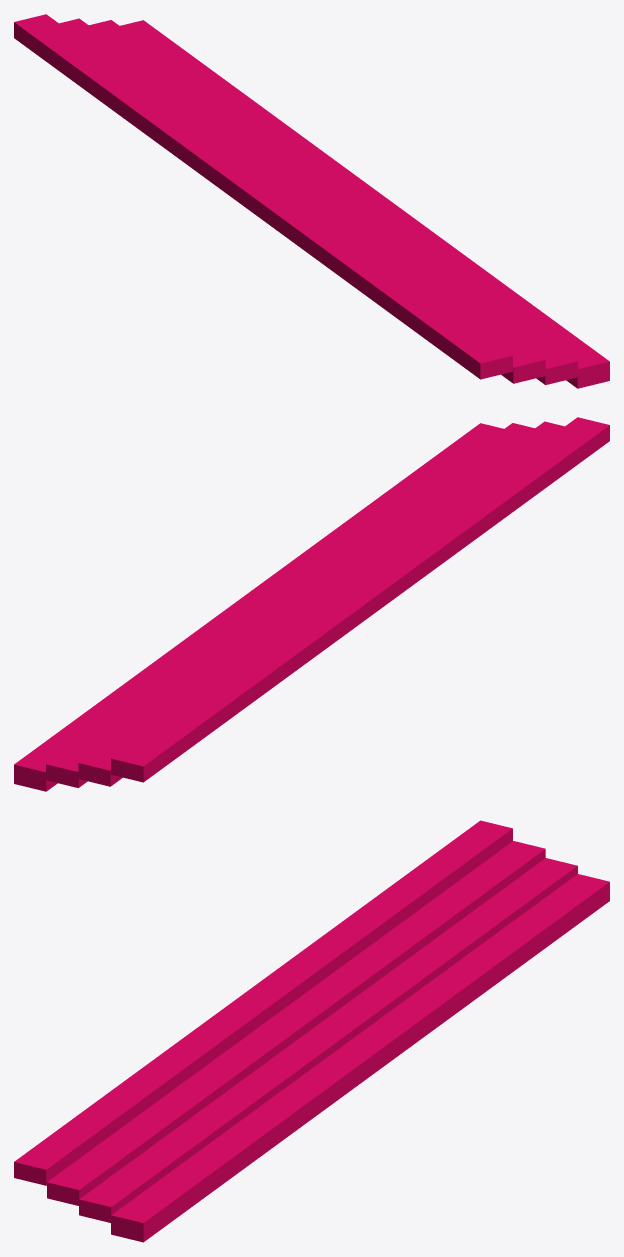
File: Stairs_01_Lod0.fbx
The picture shows the model from 3 angles, top to bottom: view 1: azimuth 30°, elevation 25°; view 2: azimuth 150°, elevation 25°; view 3: azimuth 330°, elevation 25°; orthographic projection.
Parts seen in each view (by area): view 1: Stairs_01_Lod0; view 2: Stairs_01_Lod0; view 3: Stairs_01_Lod0.
Boxes of the visible parts, bbox=[...] form: Stairs_01_Lod0: bbox=[14, 14, 609, 388]; Stairs_01_Lod0: bbox=[14, 417, 609, 791]; Stairs_01_Lod0: bbox=[14, 820, 609, 1242].
Size of the model in its own units: 483 by 174 by 3013.
